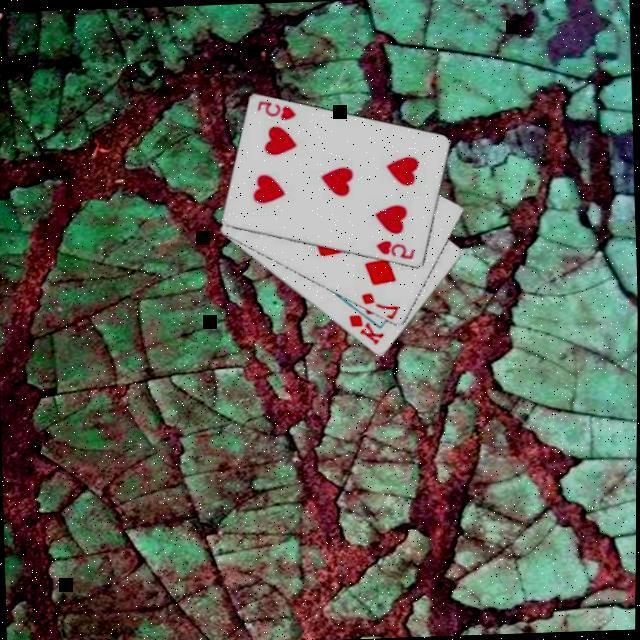5H: (254, 97, 300, 125), (375, 237, 420, 265)
7D: (359, 289, 404, 323)
KD: (347, 312, 388, 349)
